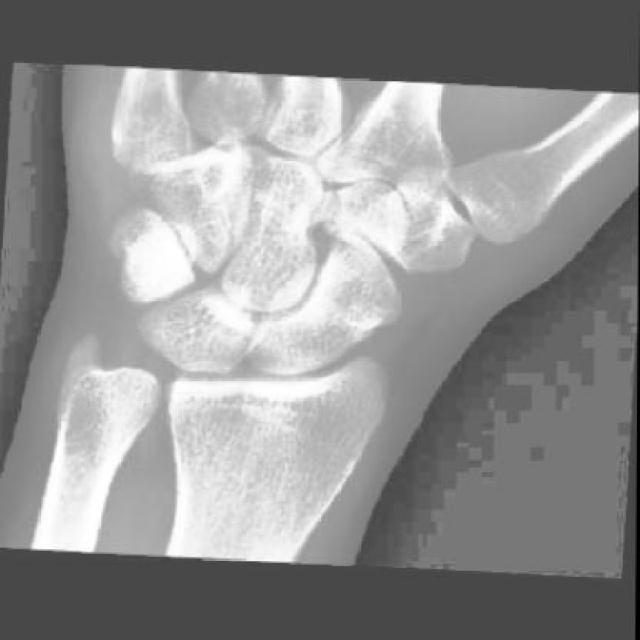Fracture: (131, 159, 170, 199)
